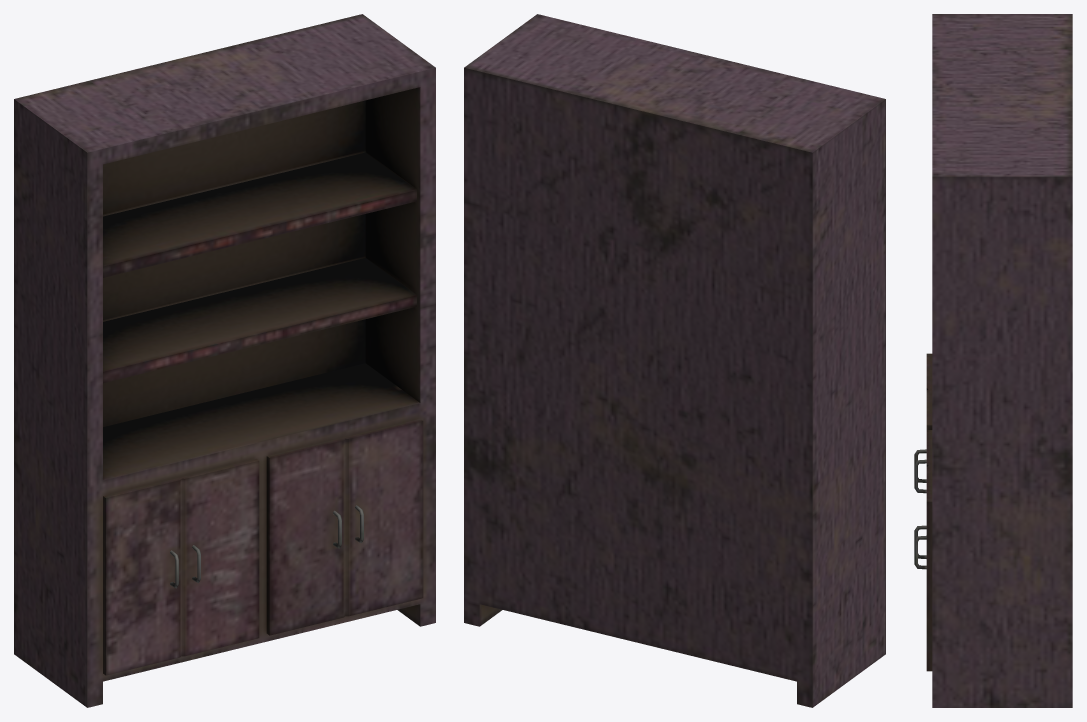
File: AdminStorage.FBX
3 renders of one model, left to right at view 1: azimuth 30°, elevation 25°; view 2: azimuth 150°, elevation 25°; view 3: azimuth 270°, elevation 25°, orthographic. The views are drawn at different scales.
Parts seen in each view (by area): view 1: AdminStorage; view 2: AdminStorage; view 3: AdminStorage.
Boxes of the visible parts, x1,y1,x2,y2 form: AdminStorage: [14, 14, 435, 707]; AdminStorage: [464, 14, 885, 707]; AdminStorage: [914, 14, 1072, 707].
Size of the model in its own units: 136 by 207 by 55.81.
